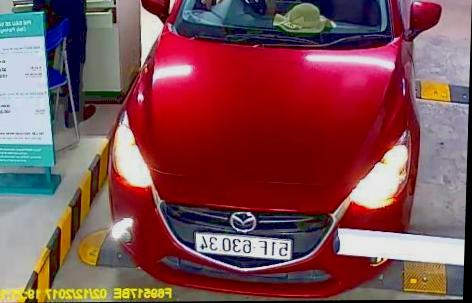License_Plate: (193, 233, 294, 258)
